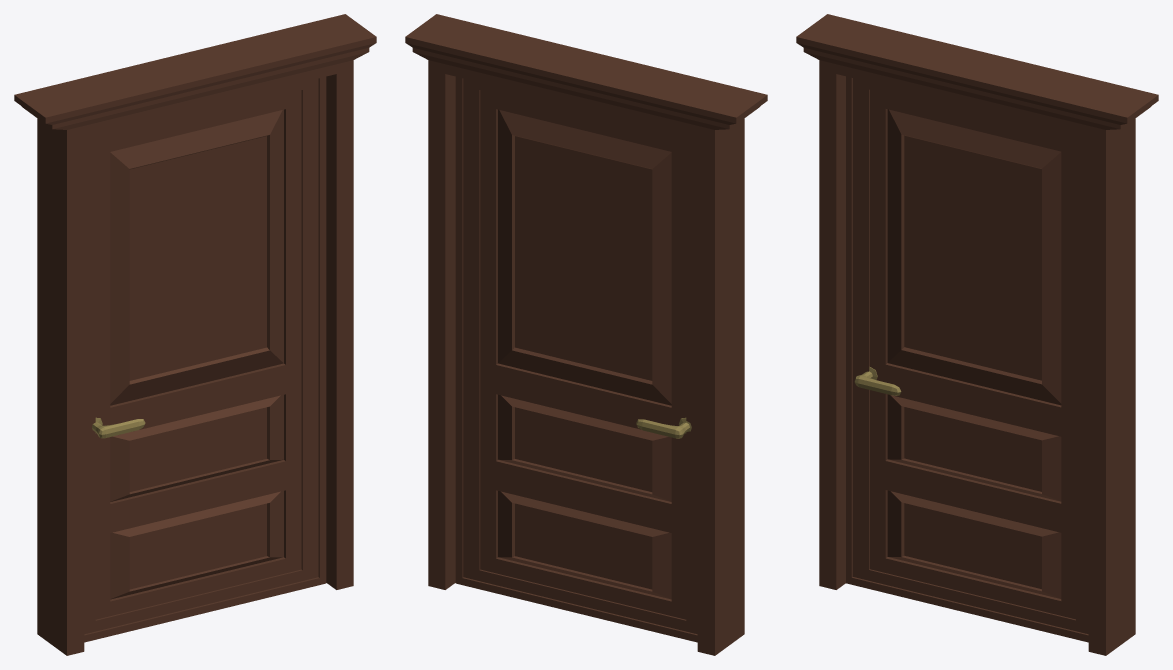
File: wooden_door.glb
The picture shows the model from 3 angles, left to right: view 1: azimuth 30°, elevation 25°; view 2: azimuth 150°, elevation 25°; view 3: azimuth 330°, elevation 25°; orthographic projection.
Parts seen in each view (by area): view 1: DoorHandle; view 2: DoorHandle; view 3: DoorHandle.
Boxes of the visible parts, box(x1,y1,x2,y2) form: DoorHandle: box(14, 14, 376, 655); DoorHandle: box(405, 14, 767, 655); DoorHandle: box(796, 14, 1158, 655).
Bounding box in the file's own units: 2 × 3.14 × 0.3271.
